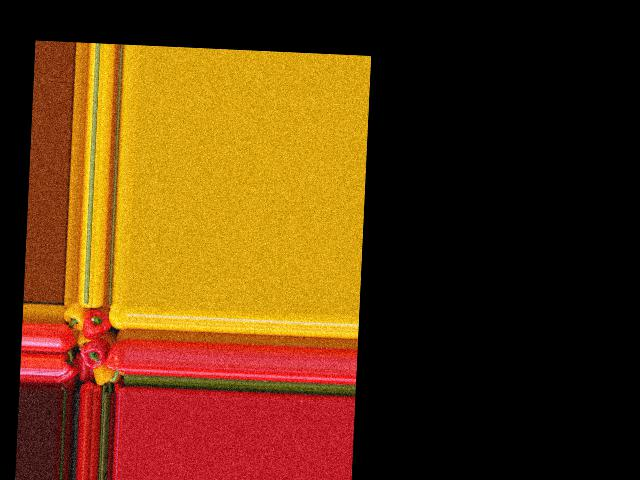bell_pepper: (65, 302, 88, 328)
